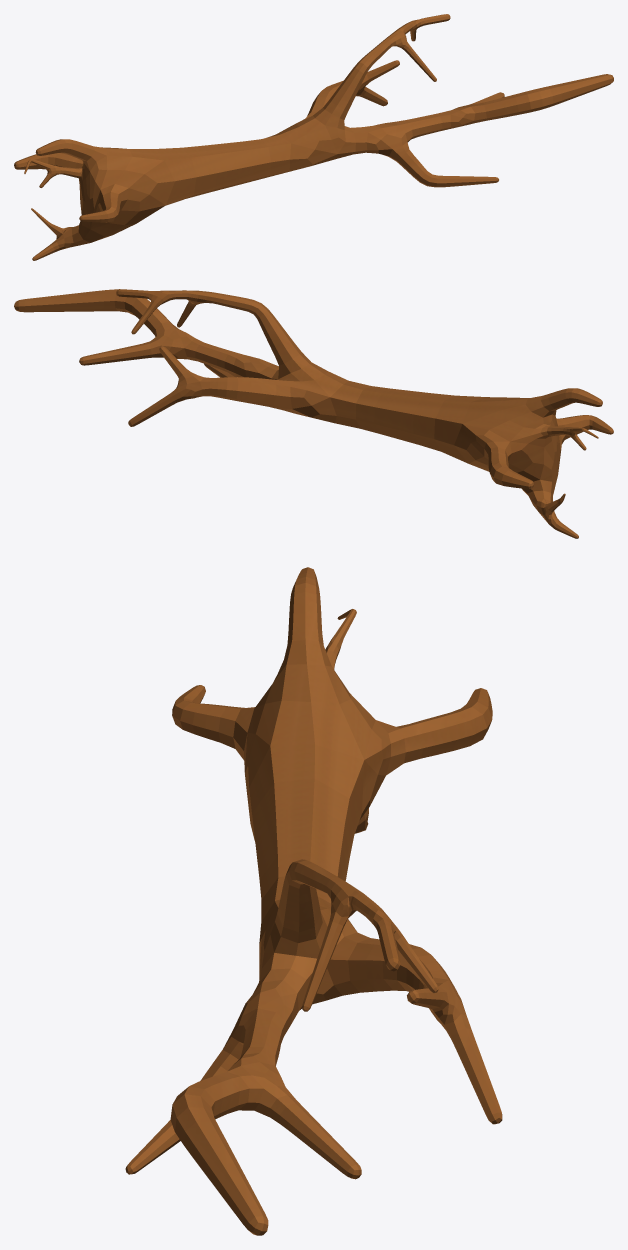
The model's file is Tree_01_A.fbx.
3 renders of one model, top to bottom at view 1: azimuth 30°, elevation 25°; view 2: azimuth 150°, elevation 25°; view 3: azimuth 270°, elevation 25°, orthographic. The views are drawn at different scales.
Parts seen in each view (by area): view 1: Tree_01_A; view 2: Tree_01_A; view 3: Tree_01_A.
Part boxes in pixels (left/top/right/bottom): Tree_01_A: left=14, top=14, right=613, bottom=260; Tree_01_A: left=14, top=289, right=613, bottom=538; Tree_01_A: left=125, top=567, right=502, bottom=1235.
Size of the model in its own units: 957 by 230 by 275.
